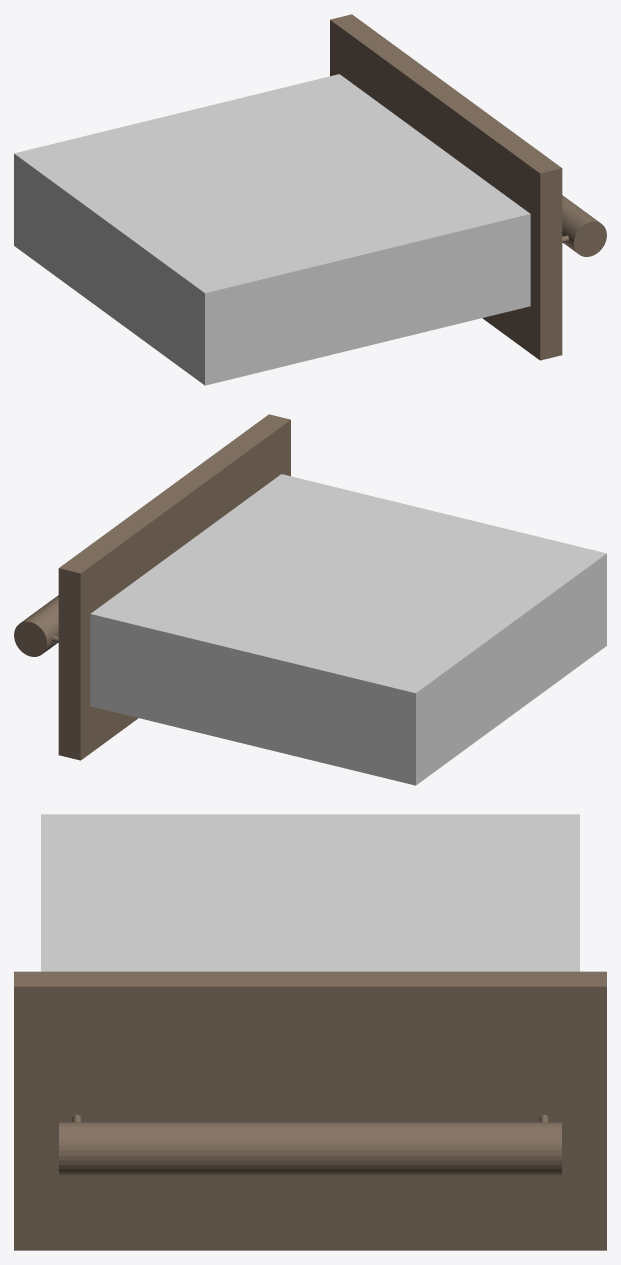
The model's file is ikea_drawer.dae.
The picture shows the model from 3 angles, top to bottom: view 1: azimuth 30°, elevation 25°; view 2: azimuth 150°, elevation 25°; view 3: azimuth 270°, elevation 25°; orthographic projection. The views are drawn at different scales.
Parts seen in each view (by area): view 1: Cylinder_002; view 2: Cylinder_002; view 3: Cylinder_002.
Part boxes in pixels (x1,y1,x2,y2): Cylinder_002: [14, 14, 606, 385]; Cylinder_002: [14, 414, 606, 785]; Cylinder_002: [14, 814, 606, 1250].
Size of the model in its own units: 0.37 by 0.33 by 0.162.
